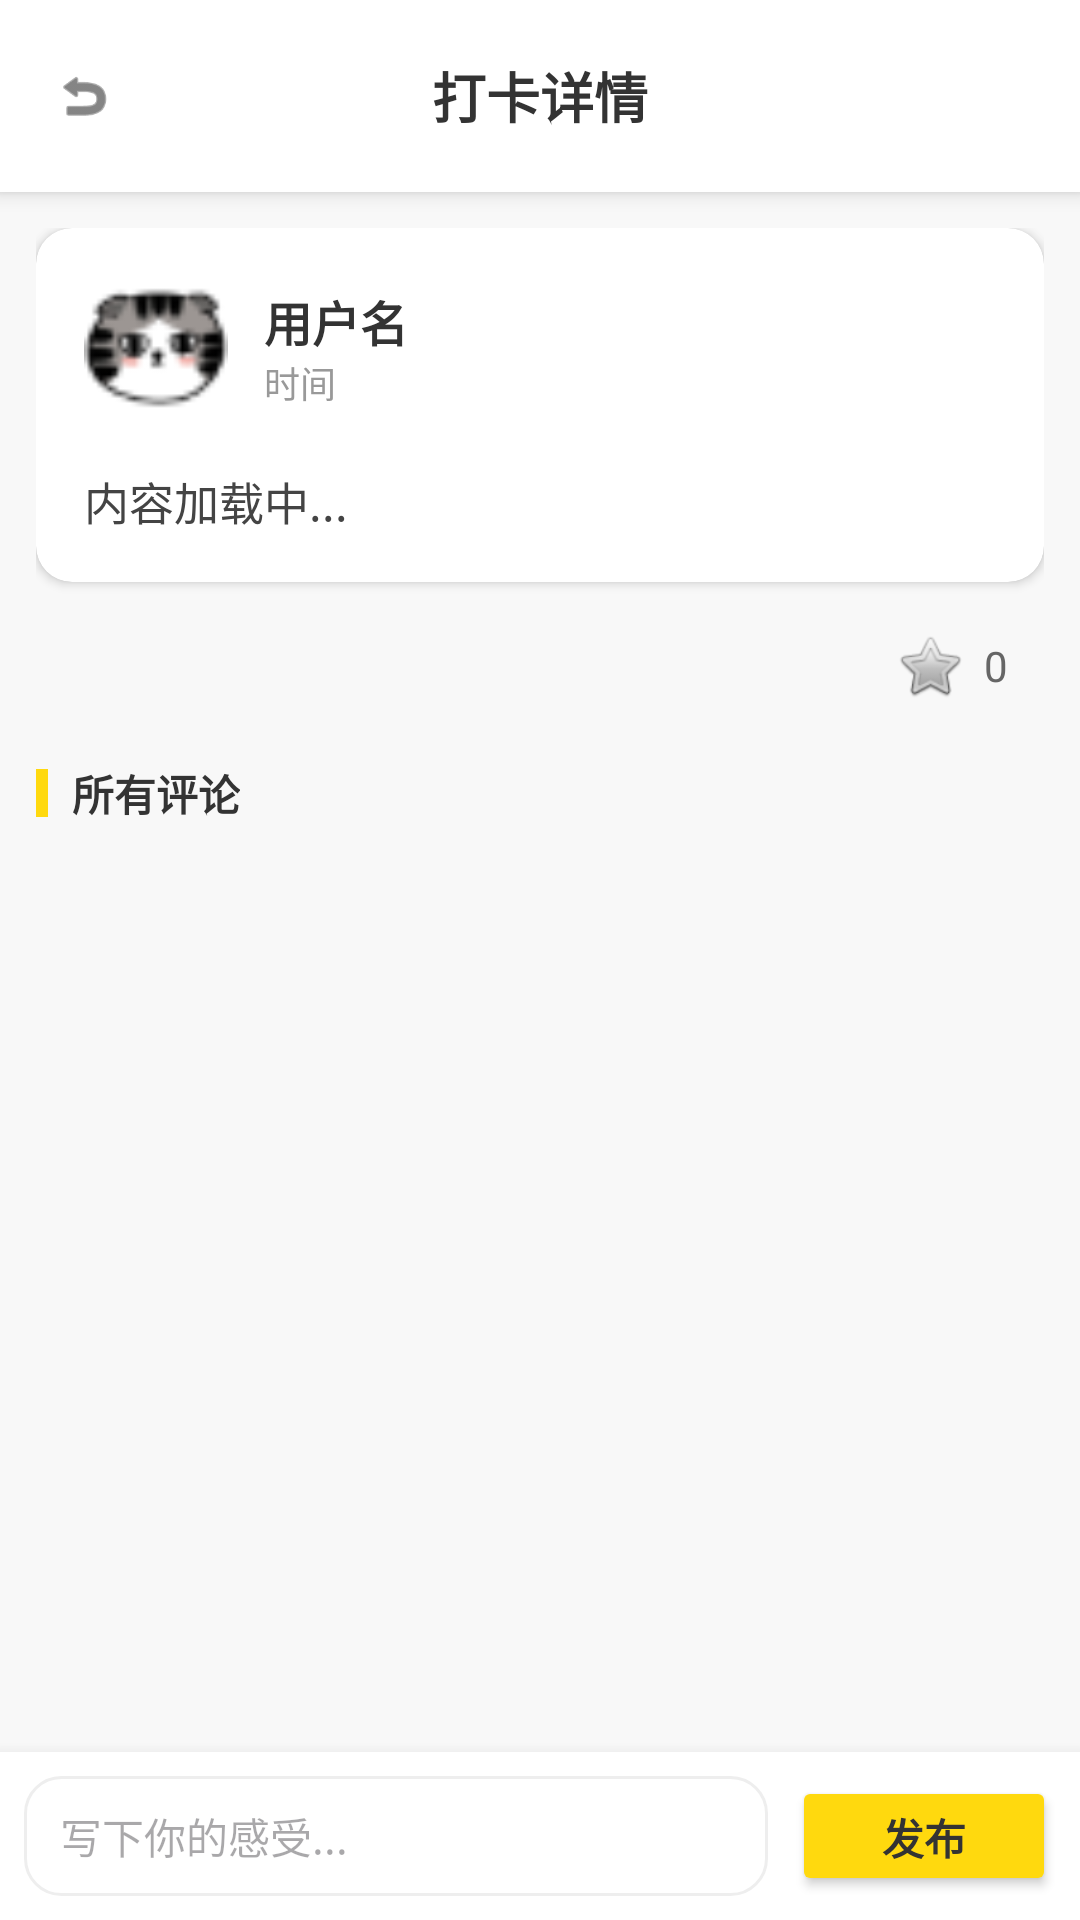

Point at icon controls on the screen. Image size 1080×1920, points as (x,y).
revert: (84,96)
star off: (931,666)
